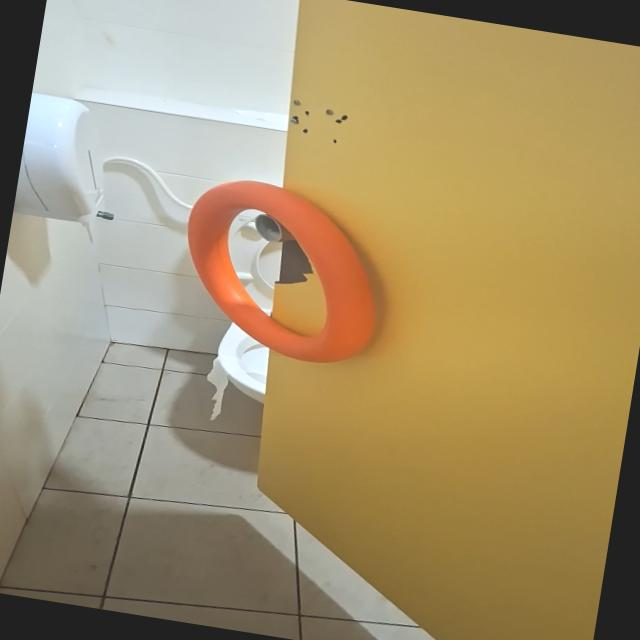note: (166, 169, 396, 373)
